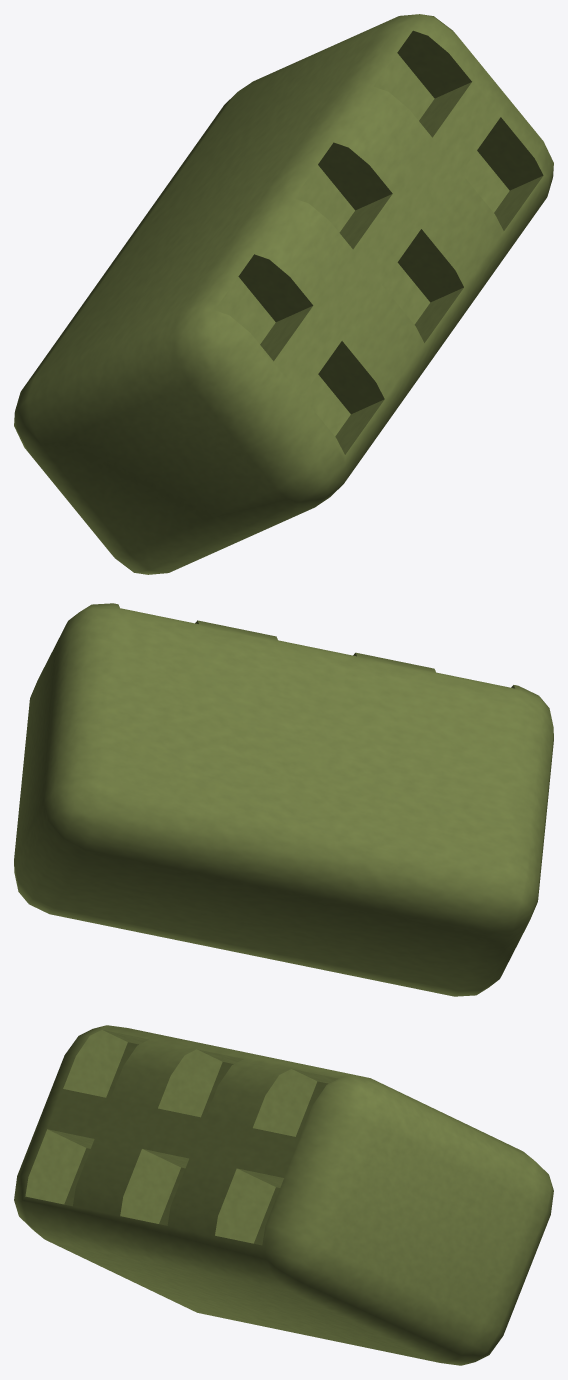
3 views of the same model, one above another, from view 1: azimuth 30°, elevation 25°; view 2: azimuth 150°, elevation 25°; view 3: azimuth 270°, elevation 25° (orthographic). The views are drawn at different scales.
Visible parts, largest first — view 1: Porous ionic crust; view 2: Porous ionic crust; view 3: Porous ionic crust.
Part boxes in pixels (x1,y1,x2,y2): Porous ionic crust: (14,14,553,574); Porous ionic crust: (14,603,553,996); Porous ionic crust: (14,1025,553,1365).
Bounding box in the file's own units: 1.08 × 0.7758 × 0.9914.
1 material, 1 textured.
